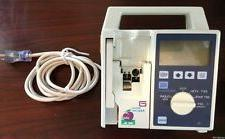plumxl1: (100, 5, 220, 133)
